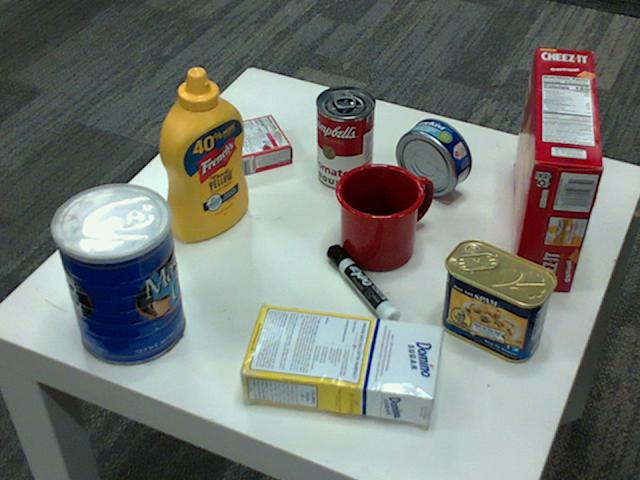cracker_box: (508, 46, 604, 289)
gelatin_box: (205, 111, 293, 176)
large_marker: (327, 246, 399, 330)
master_chef_can: (48, 184, 183, 367)
mug: (333, 161, 428, 268)
mustard_bottle: (157, 67, 248, 241)
potted_meat_can: (439, 239, 556, 362)
sugar_box: (234, 301, 440, 423)
tomato_soup_can: (315, 86, 375, 190)
tuna_fish_can: (395, 117, 470, 195)
